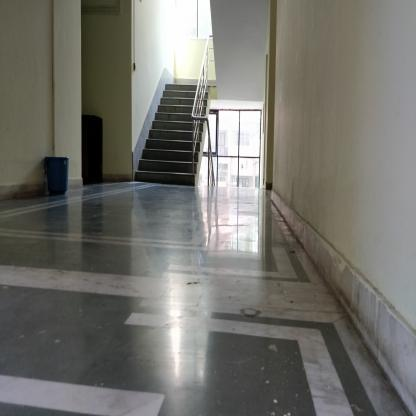stairs: (168, 83, 192, 191)
